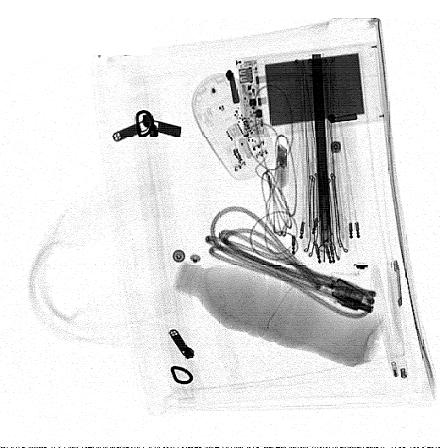Powerbank: (235, 42, 386, 138)
